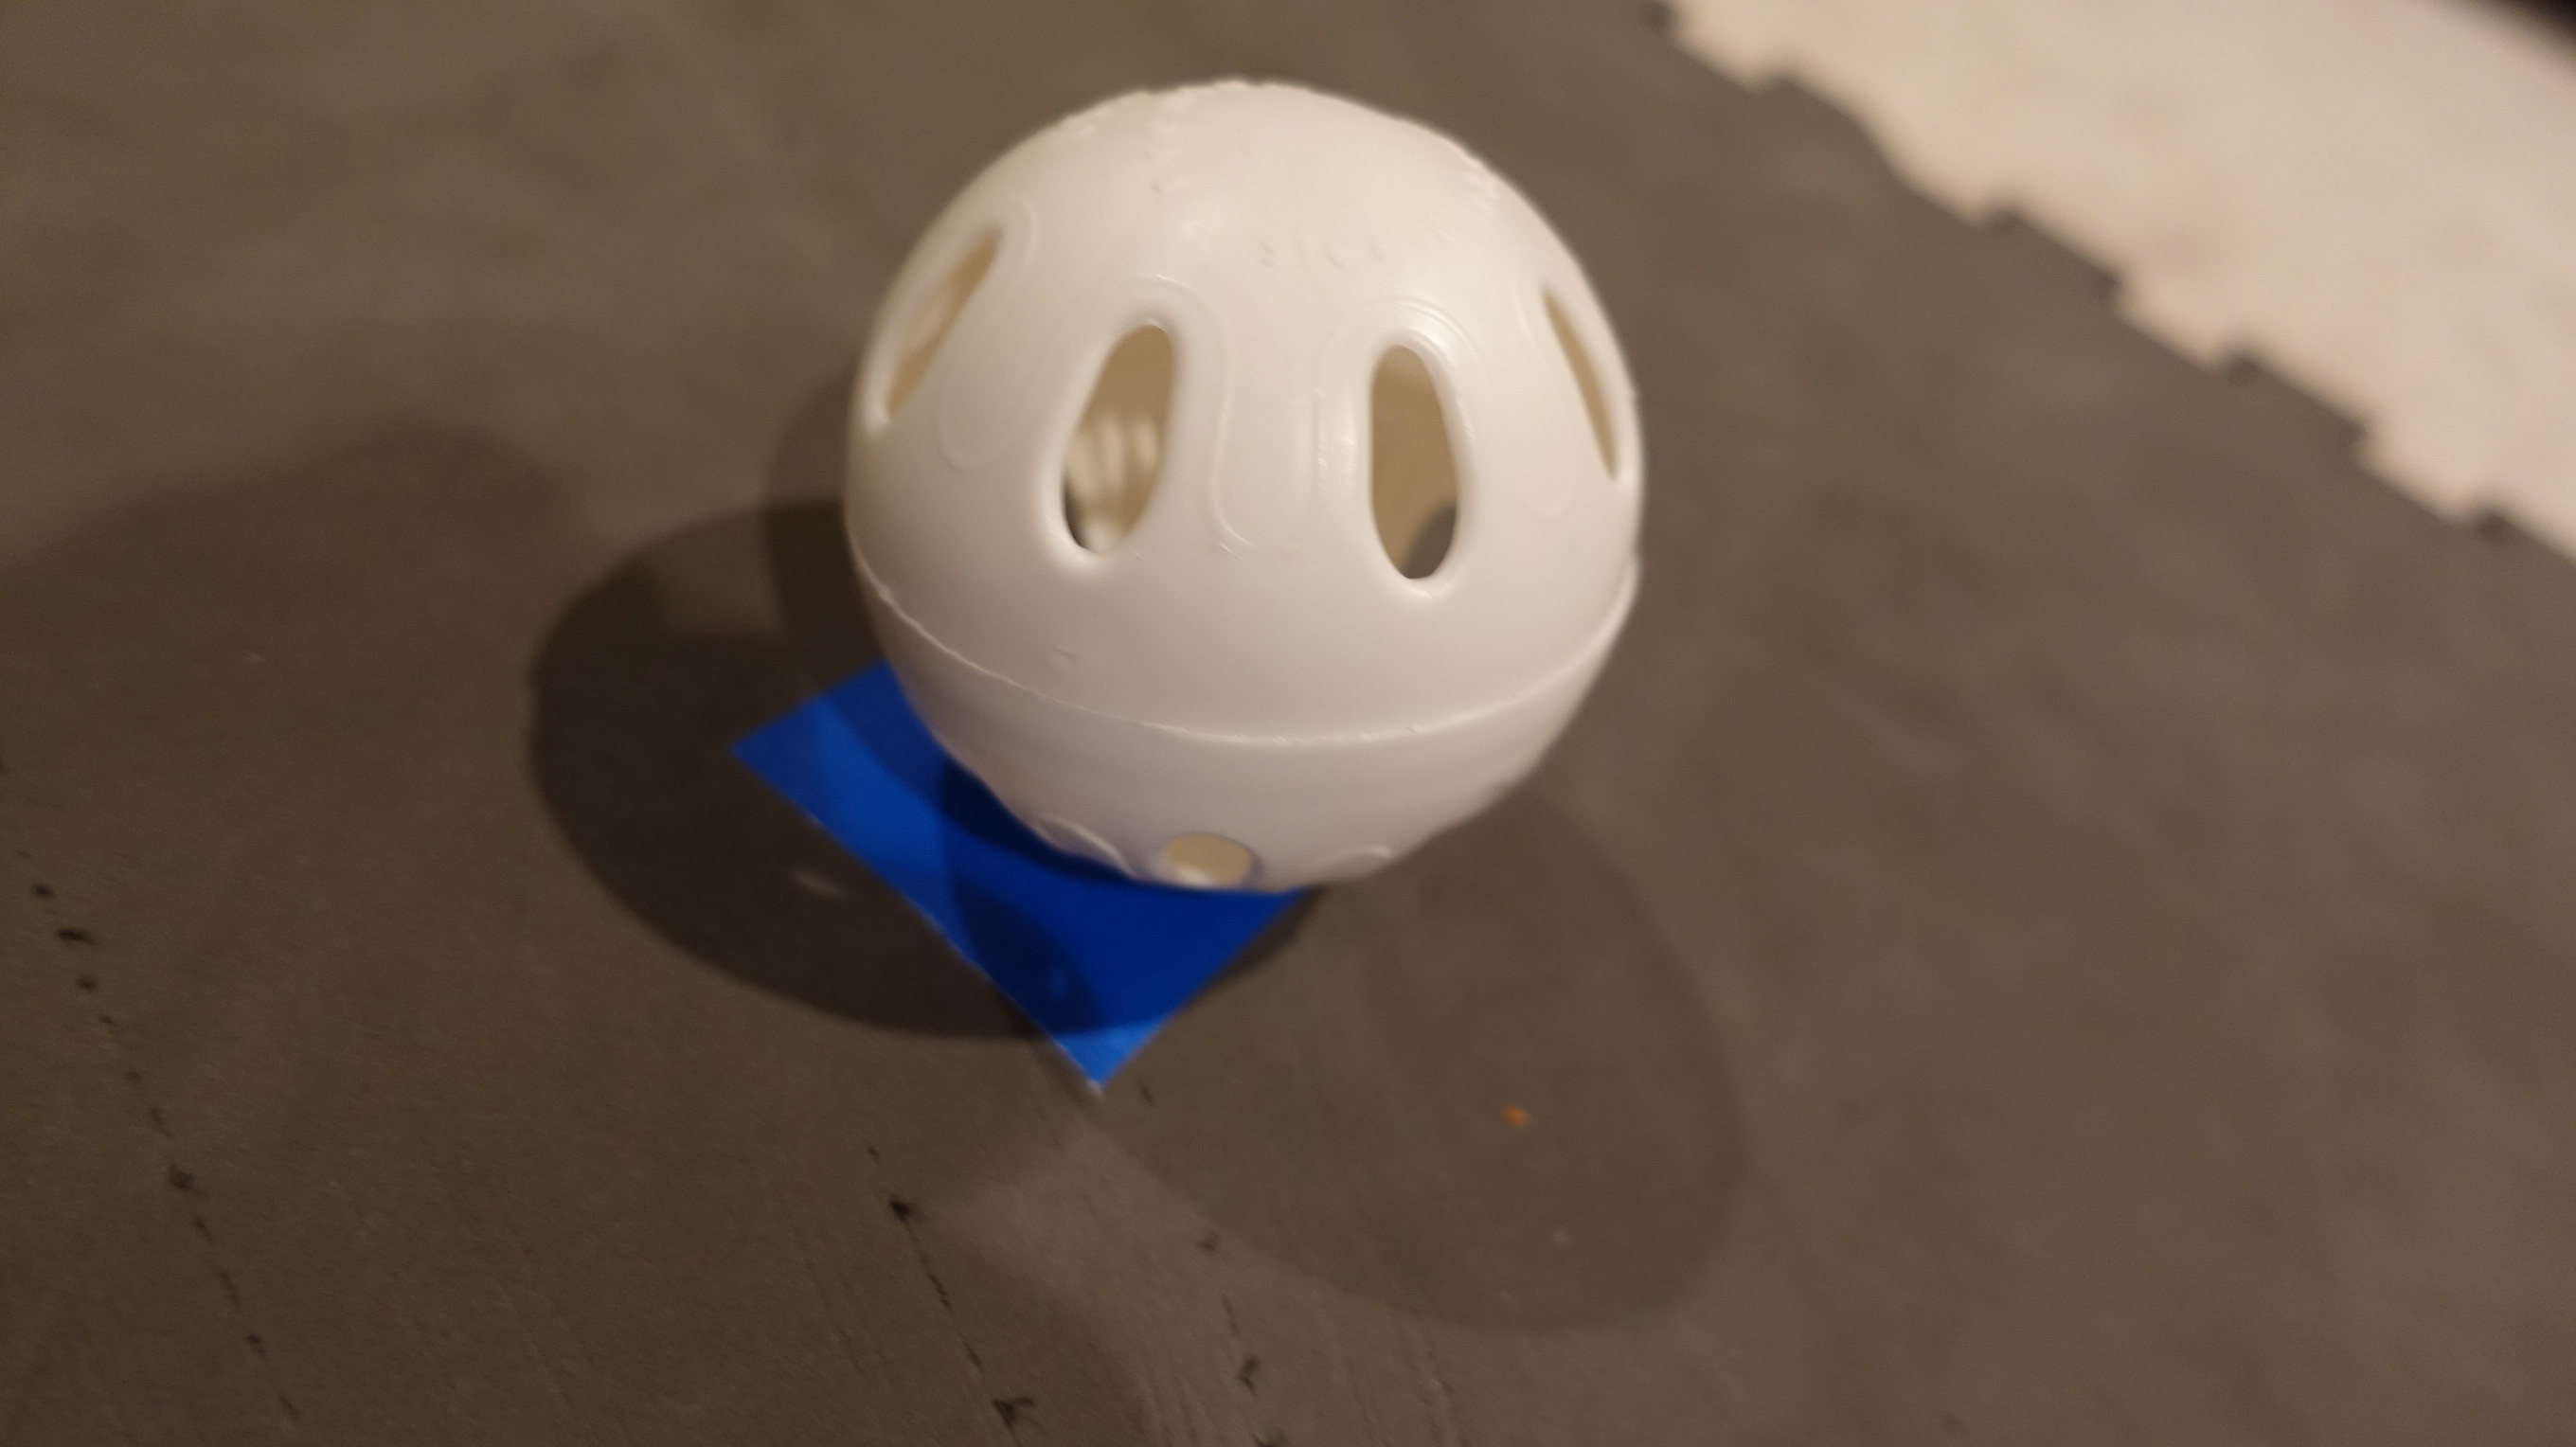silver: (828, 60, 1651, 909)
